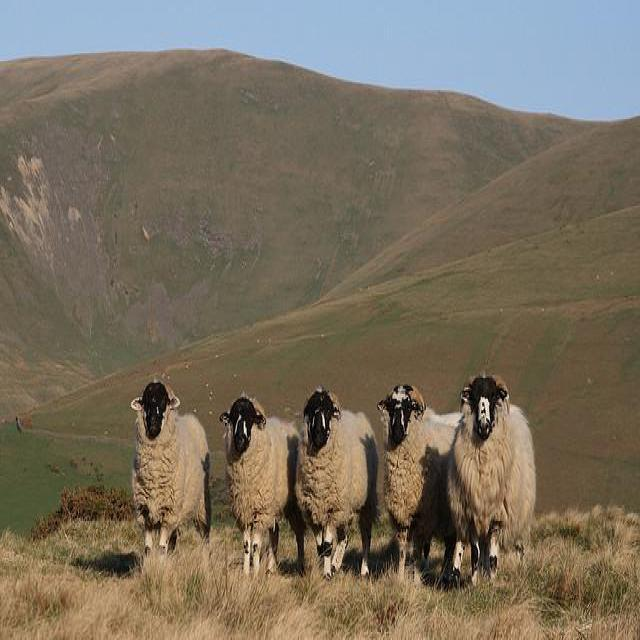Sheep: (447, 372, 538, 588), (379, 381, 462, 585), (220, 392, 308, 582), (129, 376, 215, 563), (295, 391, 378, 579)
